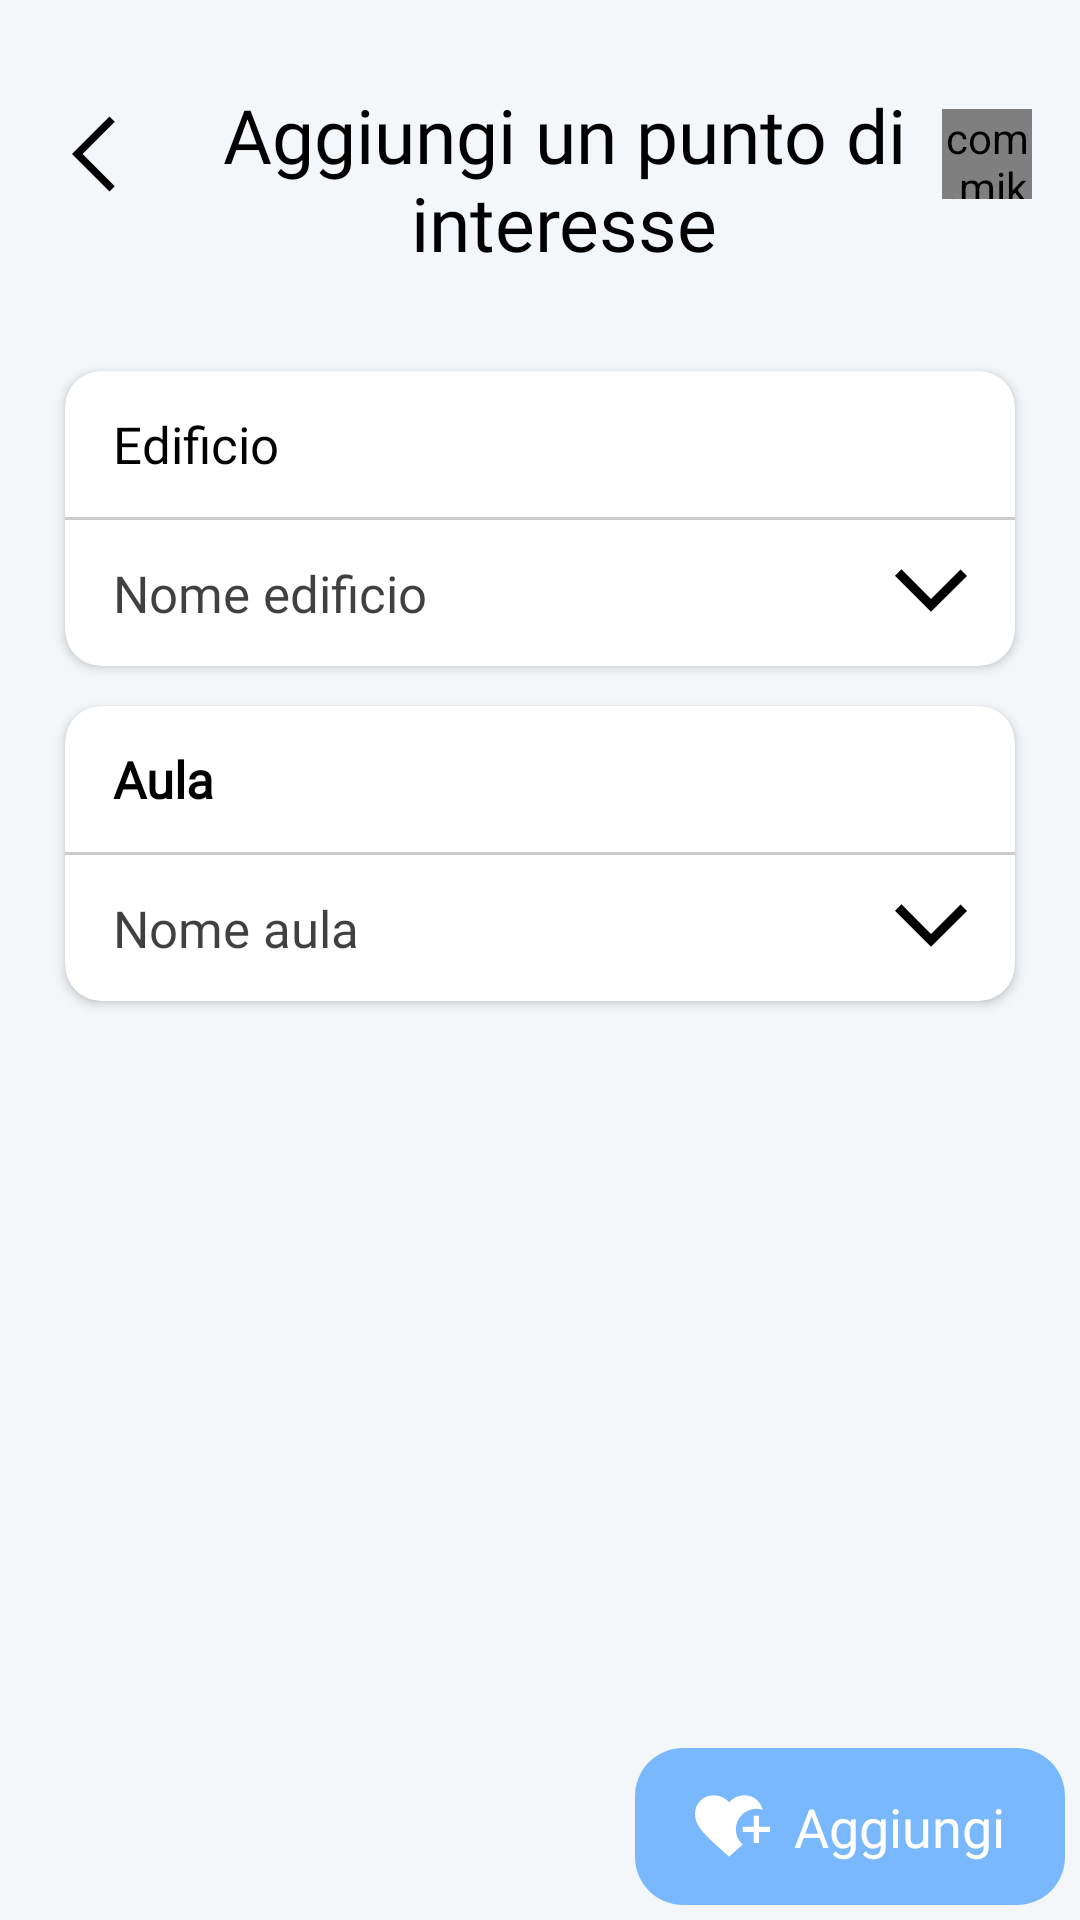

Screen size 1080×1920. Icon name, then its center in pixels as [x,y]:
arrow back: [93,154]
arrow down: [931,590], [931,925]
